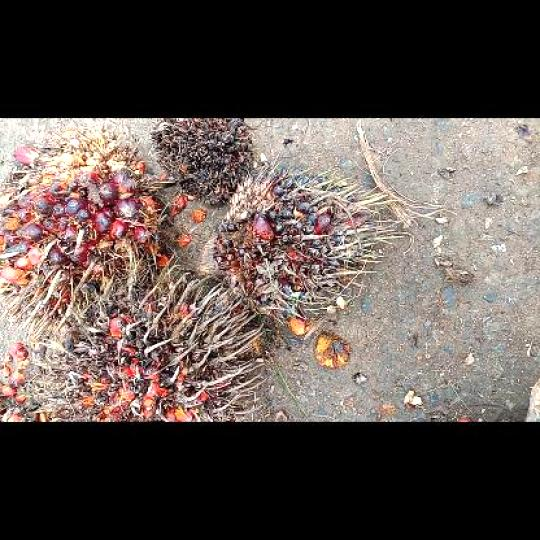masak: (0, 127, 175, 320)
terlalu masak: (36, 265, 263, 420)
